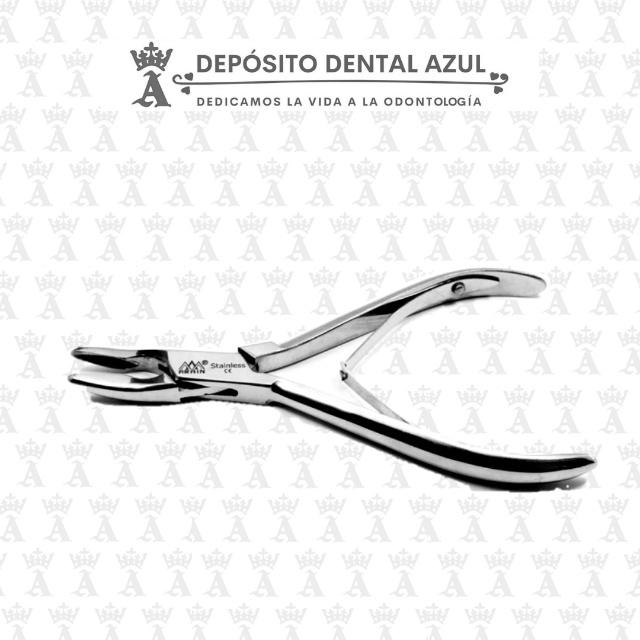gubia: (68, 265, 597, 494)
